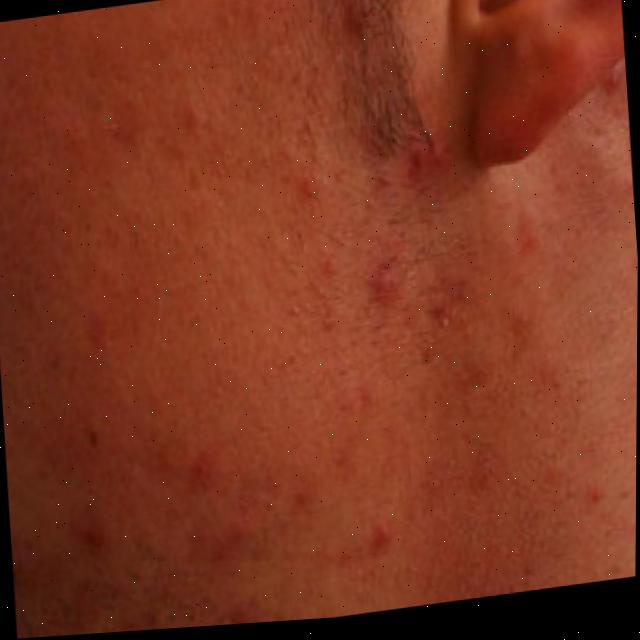Acne: (0, 81, 548, 640)
